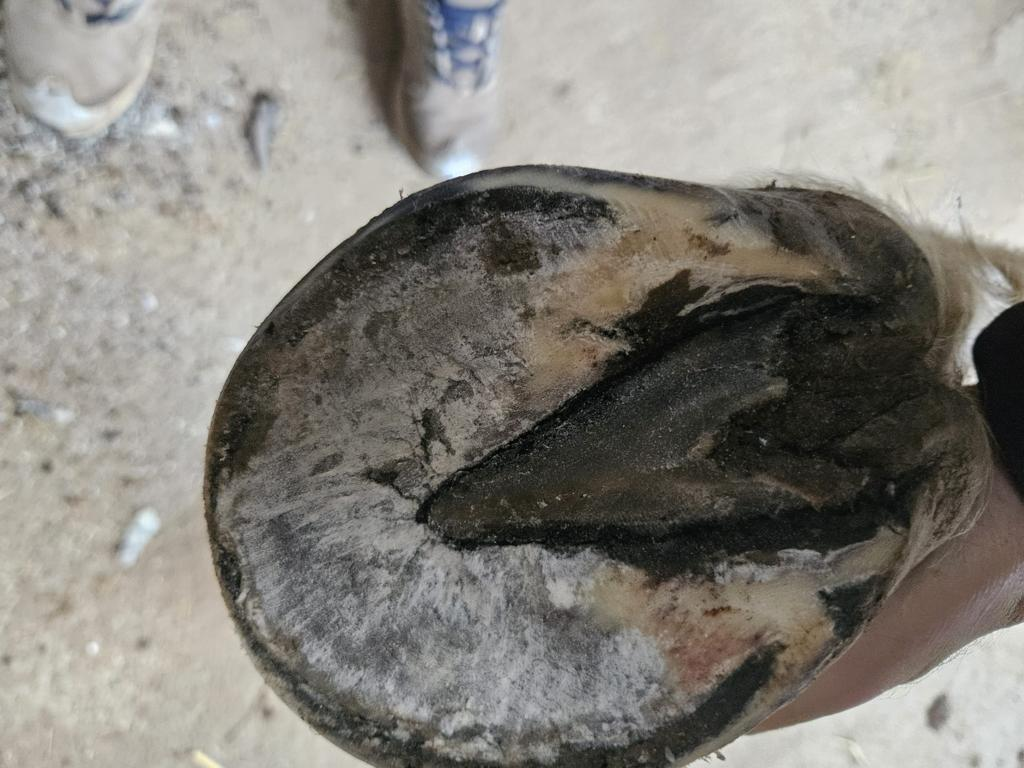horsesole: (203, 165, 856, 768)
